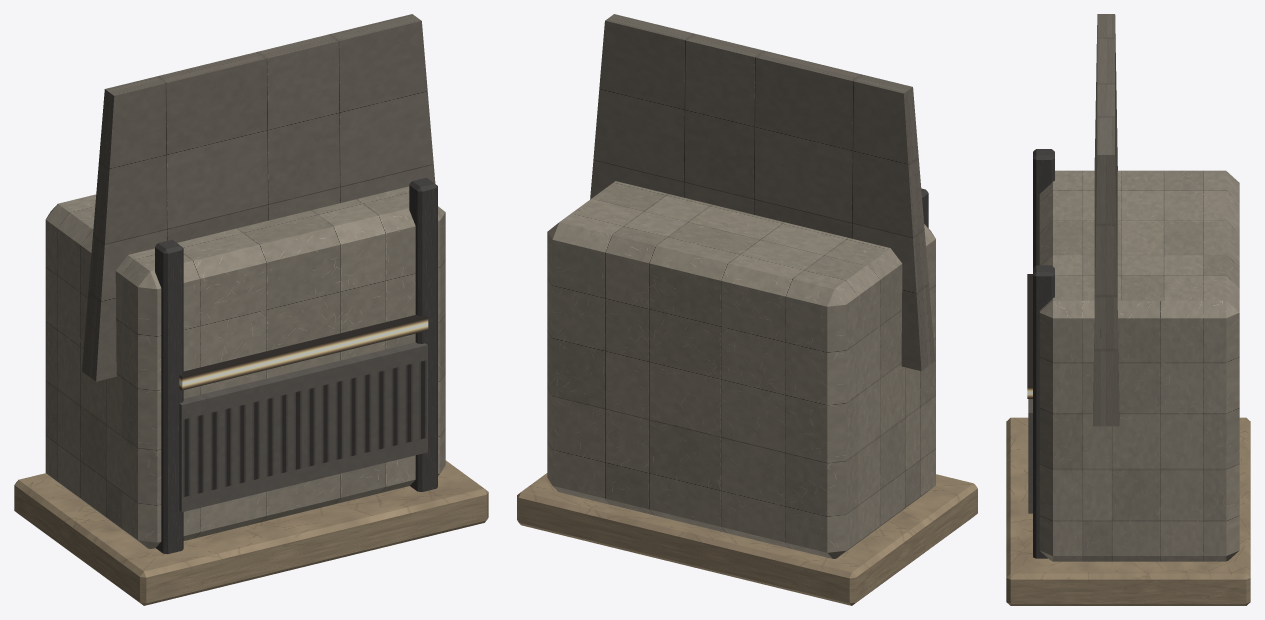
The model's file is dep_resupply.obj.
The picture shows the model from 3 angles, left to right: view 1: azimuth 30°, elevation 25°; view 2: azimuth 150°, elevation 25°; view 3: azimuth 270°, elevation 25°; orthographic projection. The views are drawn at different scales.
Parts seen in each view (by area): view 1: dep_resupply; view 2: dep_resupply; view 3: dep_resupply.
Boxes of the visible parts, left/top/right/bottom form: dep_resupply: left=14, top=14, right=488, bottom=605; dep_resupply: left=517, top=14, right=977, bottom=605; dep_resupply: left=1006, top=14, right=1250, bottom=605.
Size of the model in its own units: 1.7 by 2.2 by 1.1.
Materials: 1 (1 with a texture image).
